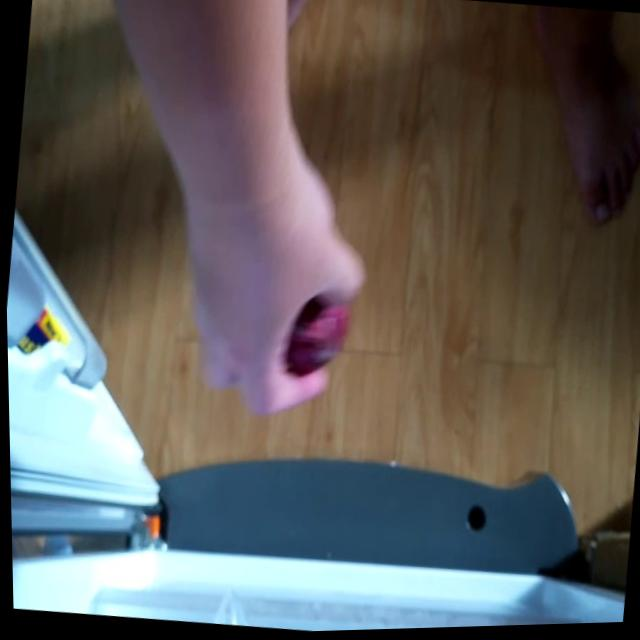onion: (279, 287, 356, 383)
